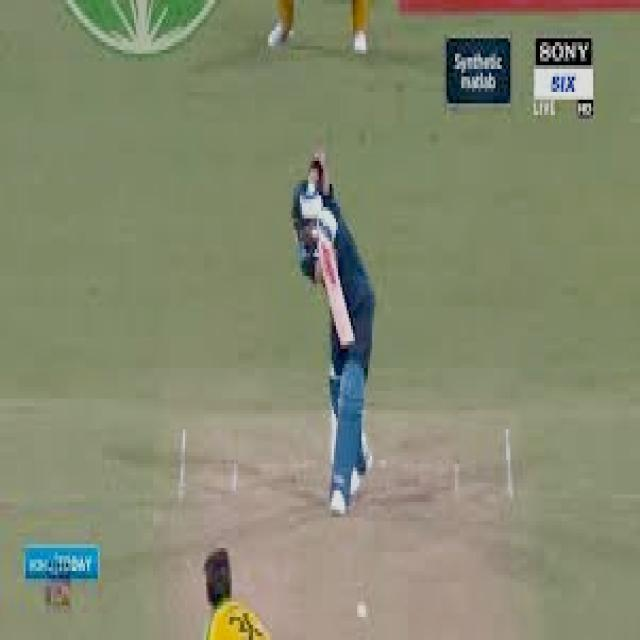bat: (314, 239, 363, 348)
toe: (340, 334, 361, 345)
